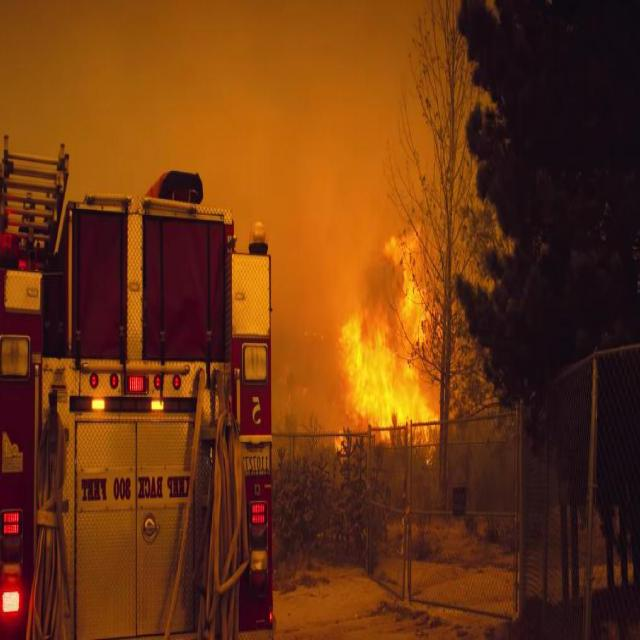fire: (323, 199, 449, 439)
